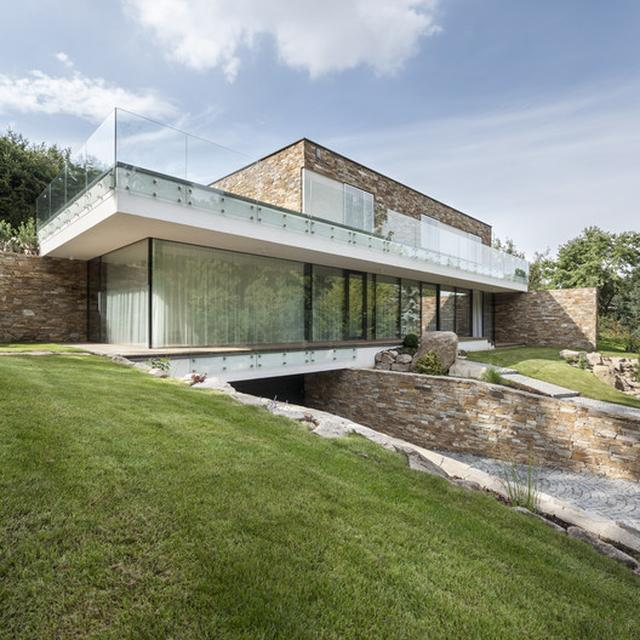building: (33, 130, 596, 376)
